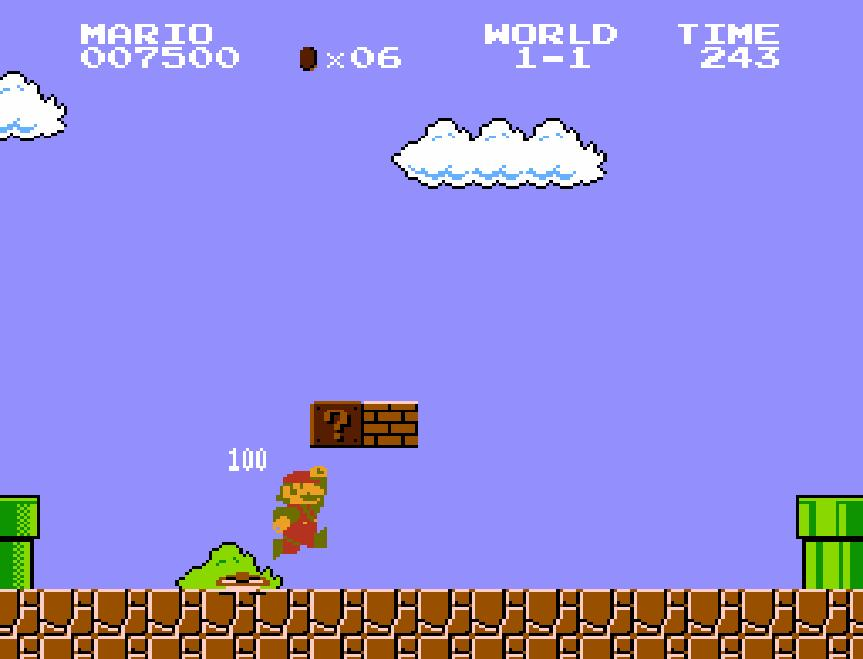big_mario: (270, 464, 328, 562)
